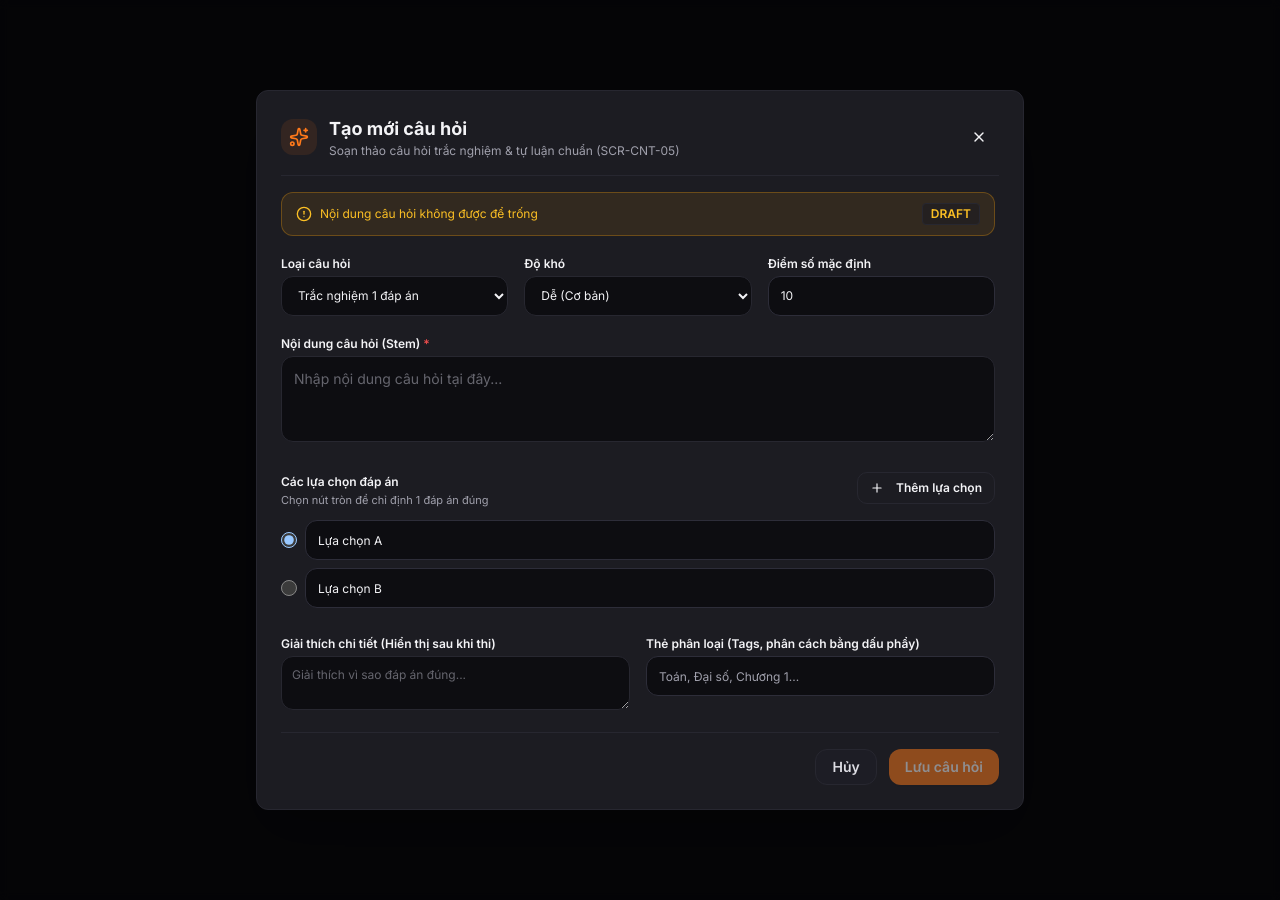
Test: T-S7-FE-01: Question Bank & Quiz Authoring Suite › QuestionEditorModal: switching to MATCHING requires pairs and shows pairs inputs
The image size is (1280, 900).
Select "Ghép cặp tương ứng" in the dropdown showing "Trắc nghiệm 1 đáp án" below "Loại câu hỏi". click: (395, 296)
box: [281,276,508,316]
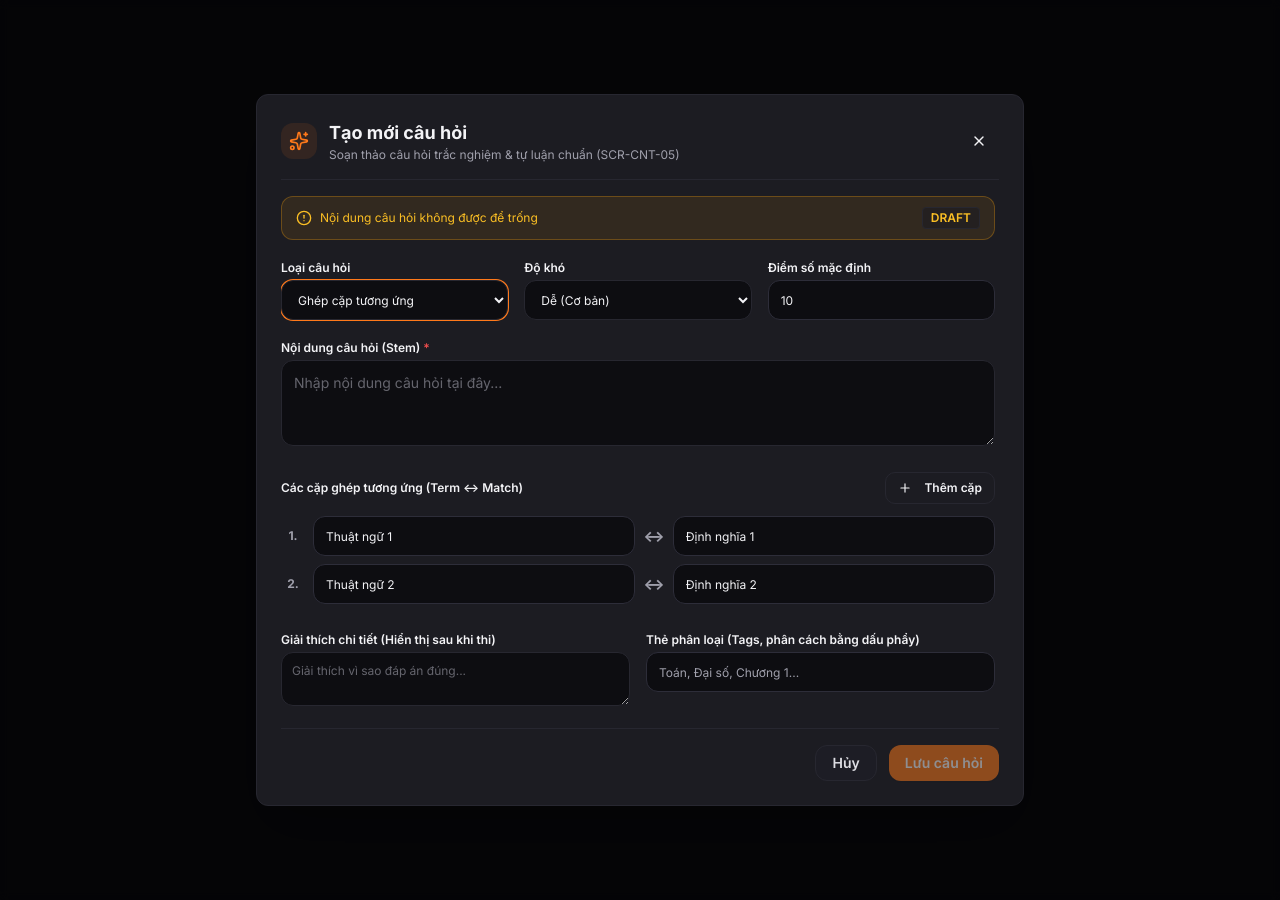
Expected: the text "Các cặp ghép tương ứng (Term ↔ Match)" is shown, [281,480,523,496]
